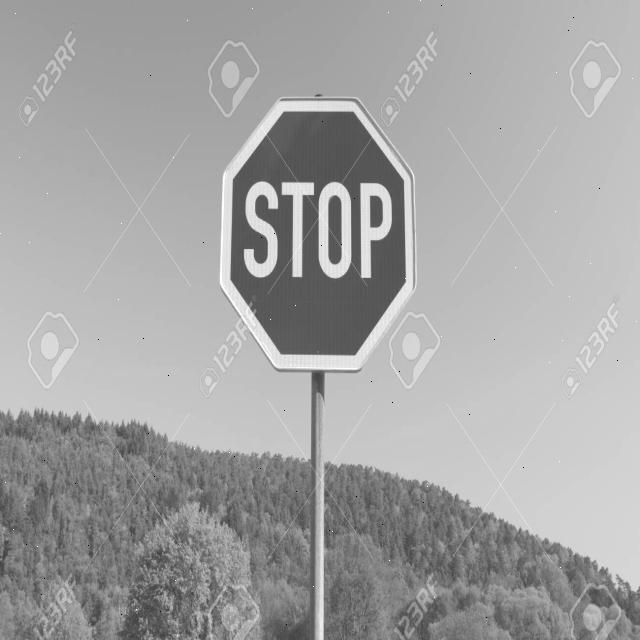Stop-sign: (208, 73, 428, 377)
